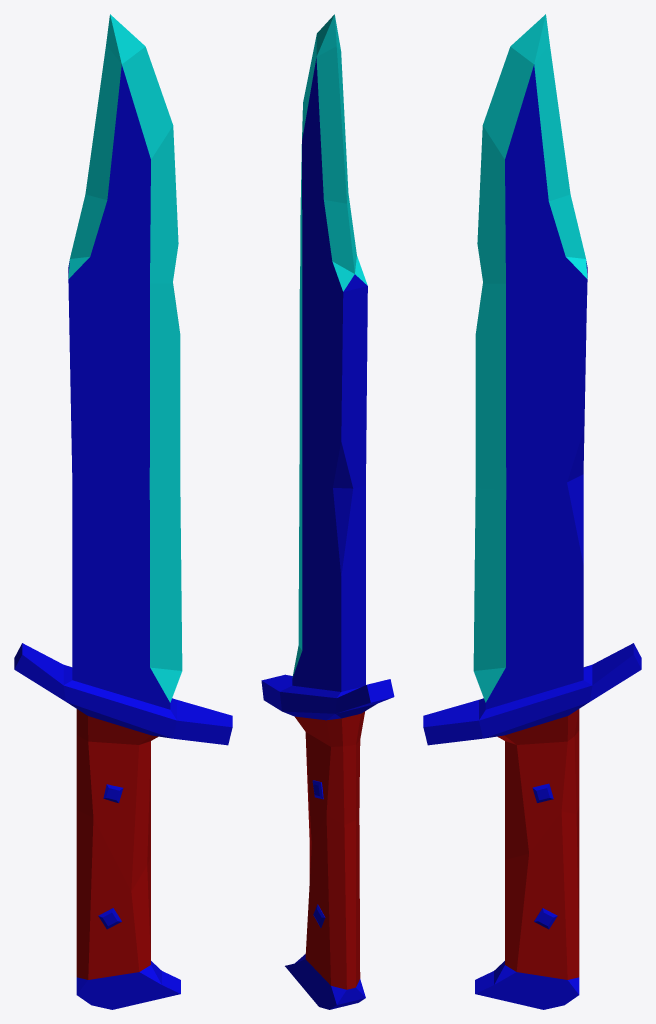
Rendered from Dagger_Legendary_BowieKnife.fbx.
The picture shows the model from 3 angles, left to right: view 1: azimuth 90°, elevation 25°; view 2: azimuth 210°, elevation 25°; view 3: azimuth 270°, elevation 25°; orthographic projection.
Parts seen in each view (by area): view 1: SM_Wep_Knife_01; view 2: SM_Wep_Knife_01; view 3: SM_Wep_Knife_01.
Part boxes in pixels (x1=…): SM_Wep_Knife_01: x1=14, y1=14, x2=232, y2=1009; SM_Wep_Knife_01: x1=261, y1=14, x2=394, y2=1009; SM_Wep_Knife_01: x1=423, y1=14, x2=641, y2=1009.
Size of the model in its own units: 3.72 by 82.43 by 16.5.
